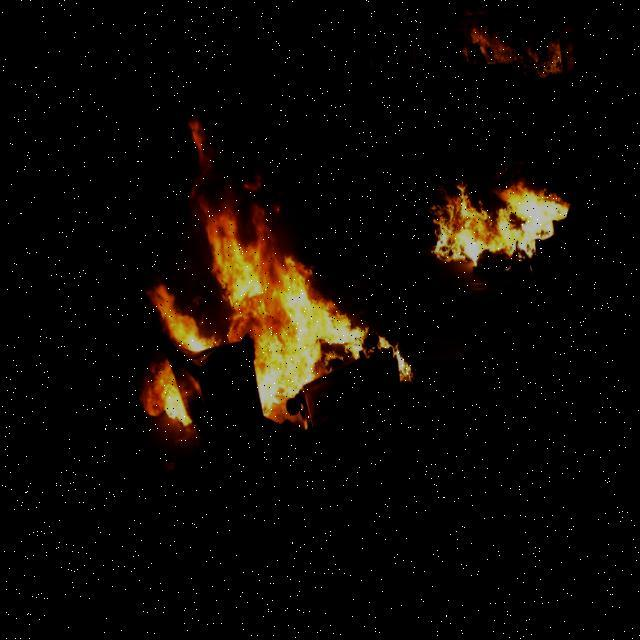Fire: (72, 94, 403, 446), (412, 172, 565, 288)
